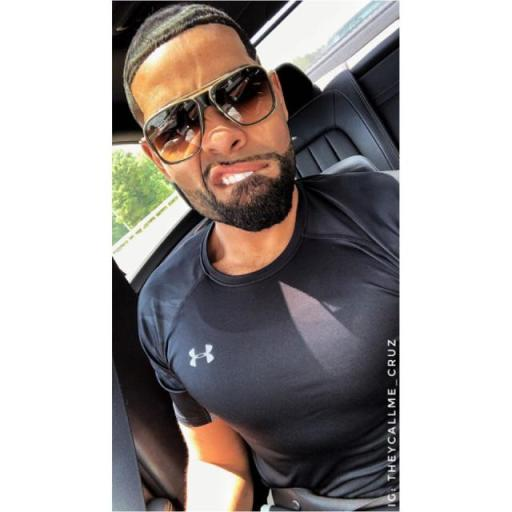Under Armour: (186, 342, 216, 368)
